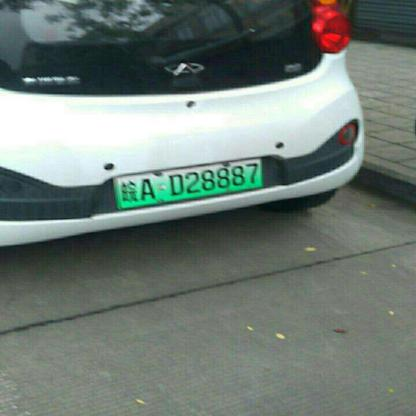lp: (113, 158, 266, 210)
